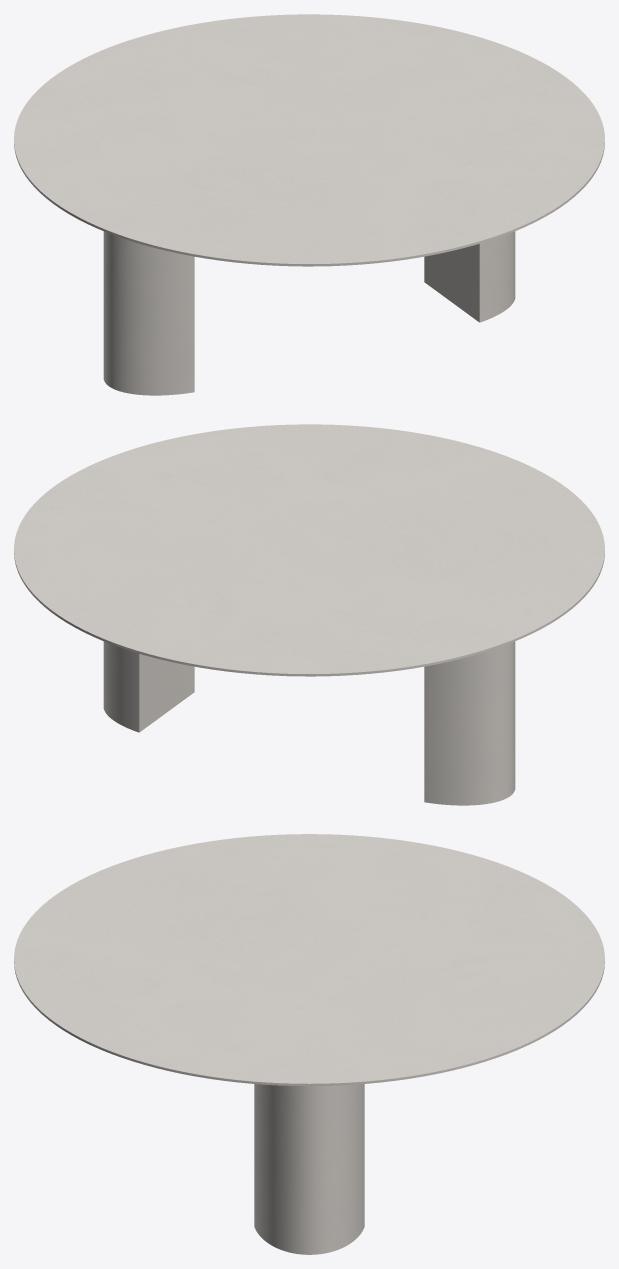
The model's file is pearlwhite_round_facet_hillside.glb.
3 renders of one model, top to bottom at view 1: azimuth 30°, elevation 25°; view 2: azimuth 150°, elevation 25°; view 3: azimuth 270°, elevation 25°, orthographic.
Visible parts, largest first — view 1: facet_round, hillside; view 2: facet_round, hillside; view 3: facet_round, hillside.
Boxes of the visible parts, box(x1,y1,x2,y2) form: facet_round: box(14, 14, 604, 266); hillside: box(103, 231, 515, 395); facet_round: box(14, 424, 604, 676); hillside: box(103, 641, 515, 805); facet_round: box(14, 834, 604, 1086); hillside: box(254, 1084, 364, 1254).
Bounding box in the file's own units: 6.75 × 2.49 × 6.75.
Materials: 1 (1 with a texture image).
